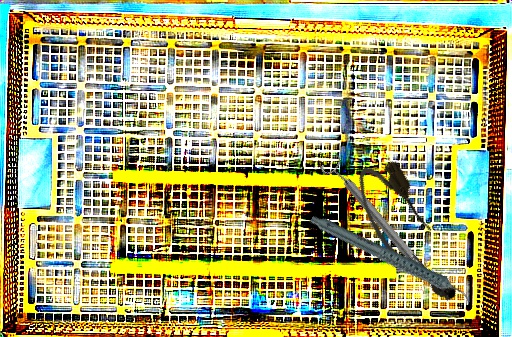Cannula: (345, 153, 468, 317)
Fixation Ring: (318, 151, 438, 287)
Handpiece: (307, 185, 474, 336)
